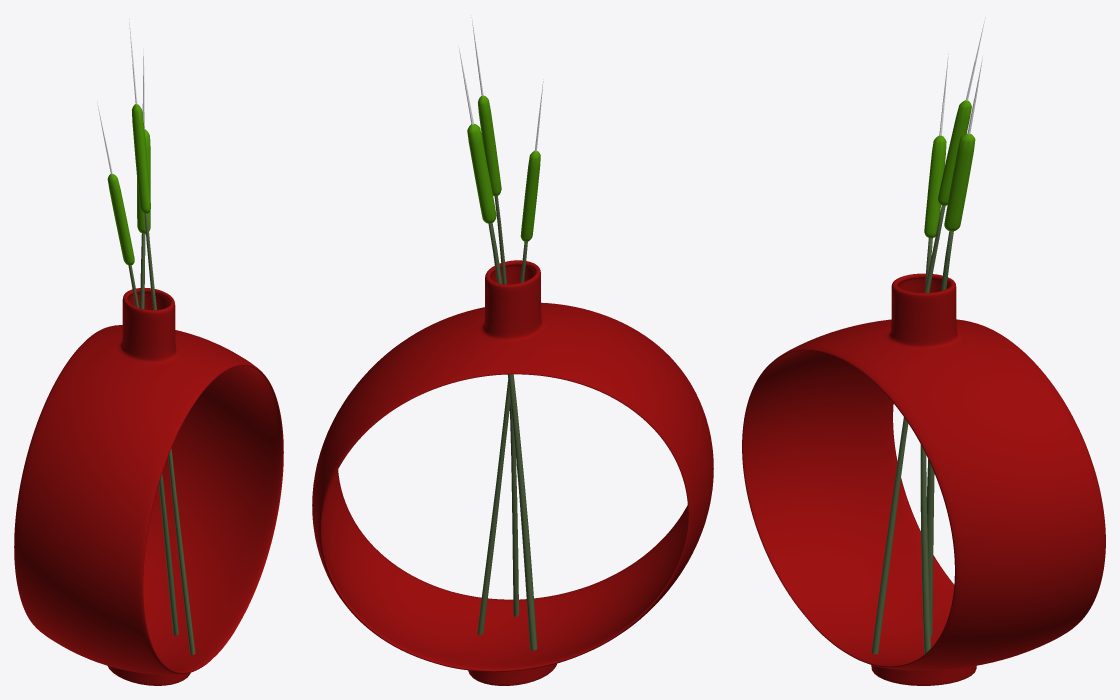
3 views of the same model, side by side, from view 1: azimuth 30°, elevation 25°; view 2: azimuth 150°, elevation 25°; view 3: azimuth 270°, elevation 25° (orthographic). The views are drawn at different scales.
Parts seen in each view (by area): view 1: Mesh10_vaza1_skp40AE1_Model; view 2: Mesh10_vaza1_skp40AE1_Model; view 3: Mesh10_vaza1_skp40AE1_Model.
Part boxes in pixels (<box>): Mesh10_vaza1_skp40AE1_Model: <box>14,18,283,685</box>; Mesh10_vaza1_skp40AE1_Model: <box>312,17,713,685</box>; Mesh10_vaza1_skp40AE1_Model: <box>742,18,1105,685</box>.
Bounding box in the file's own units: 0.5 × 1 × 0.5.
